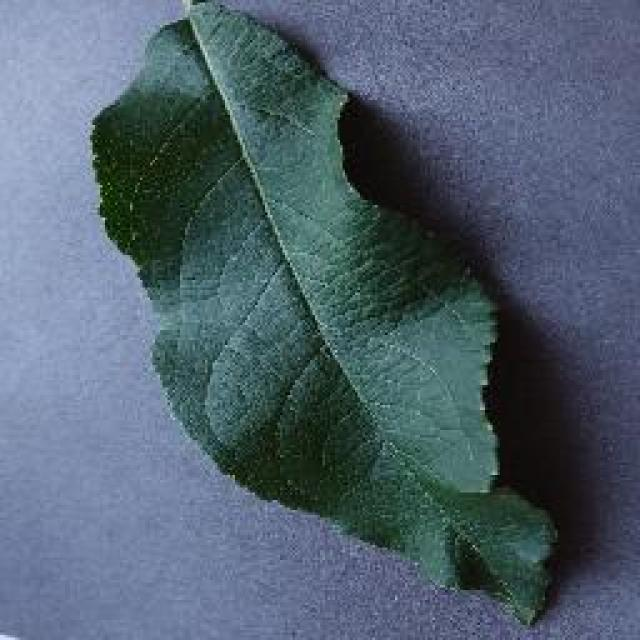apple scab disease: (88, 0, 562, 628)
